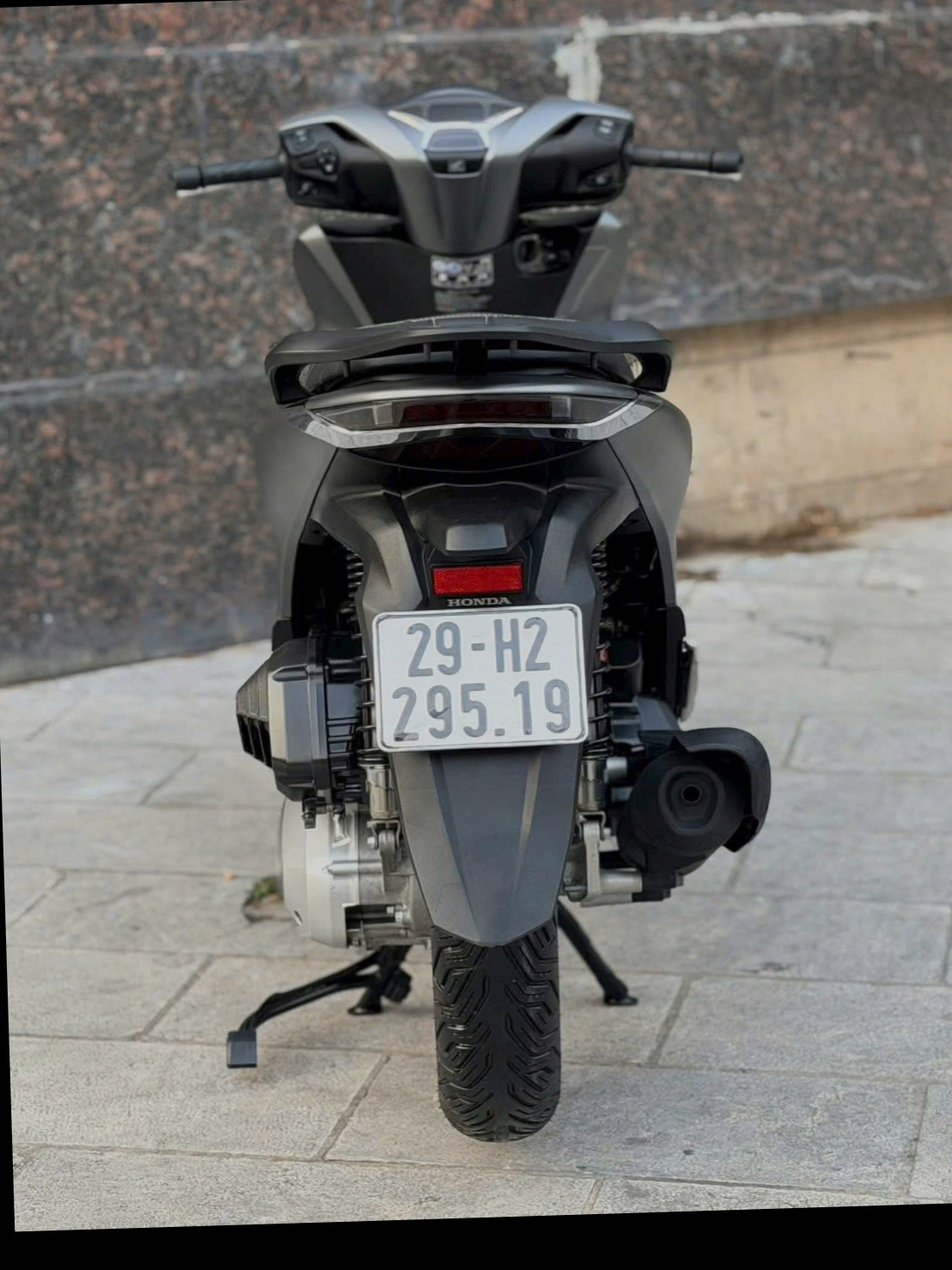Bien-so: (373, 592, 594, 751)
